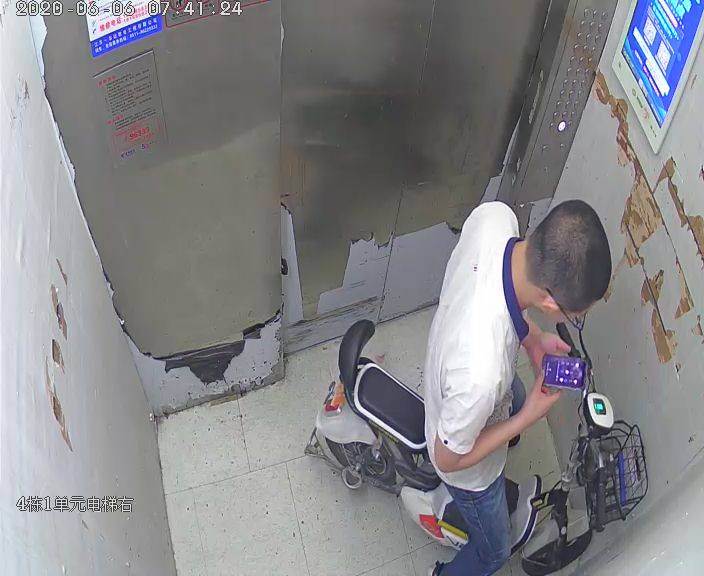Electric-bicycle: (303, 317, 649, 576)
